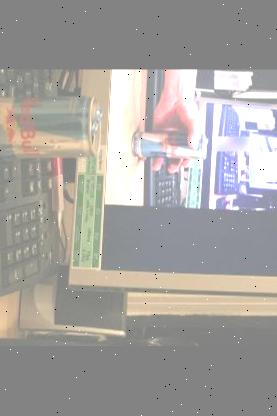Can: (0, 93, 99, 161), (130, 131, 206, 160)
